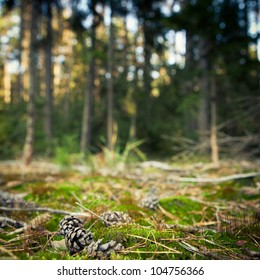Pc: (65, 227, 95, 254), (87, 241, 125, 257), (102, 211, 133, 226), (59, 215, 80, 234)
